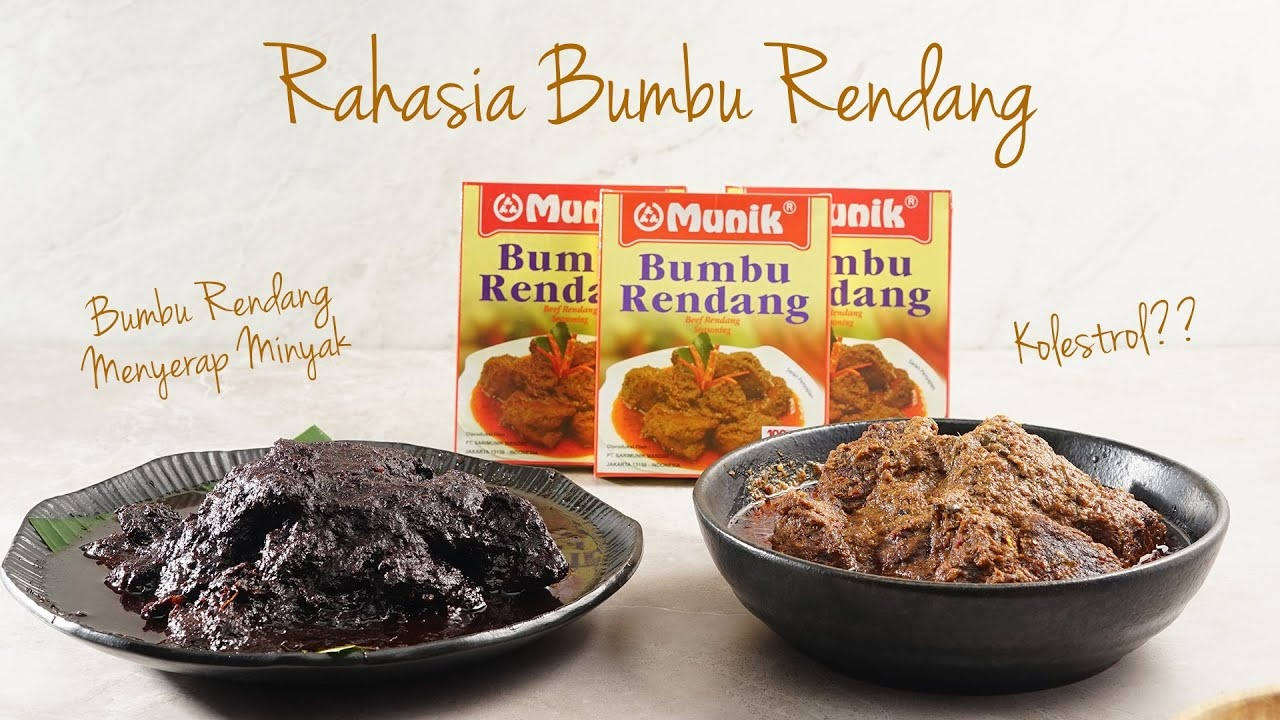rendang: (92, 435, 568, 639), (775, 413, 1171, 587)
